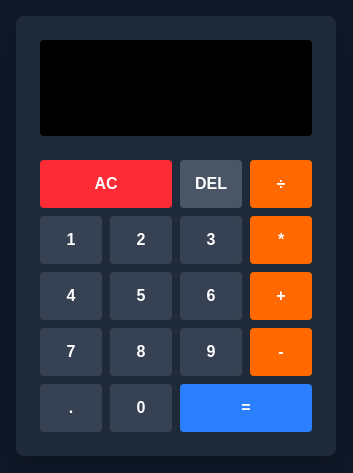
Test: Calculator › handles subtraction
Click the button "5": (141, 296) [110, 272, 172, 320]
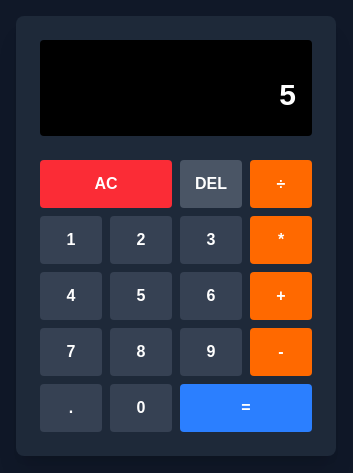
Click the button "-": (281, 352) [250, 328, 312, 376]
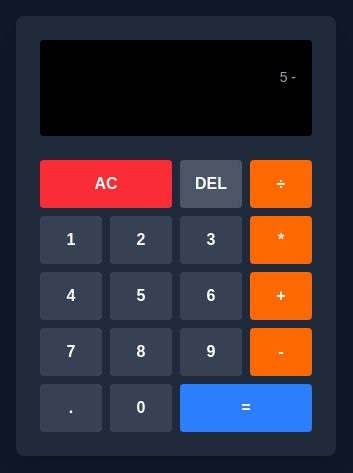
Click the button "2": (141, 240) [110, 216, 172, 264]
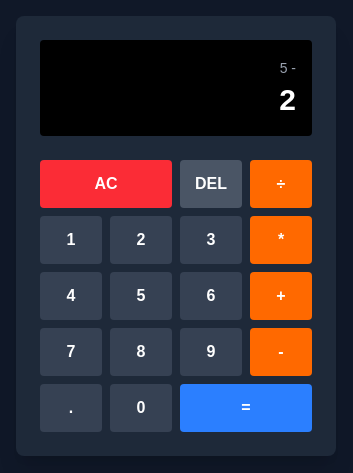
Click the button "=": (246, 408) [180, 384, 312, 432]
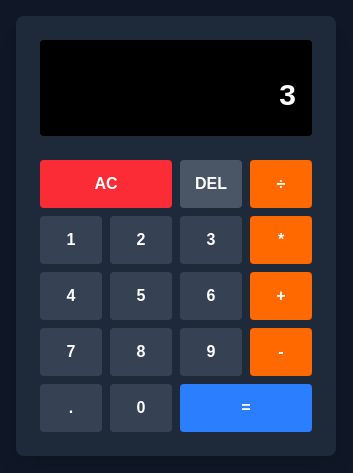
Expected: the text with test id "current-operand" reads "3", [279, 78, 296, 111]
